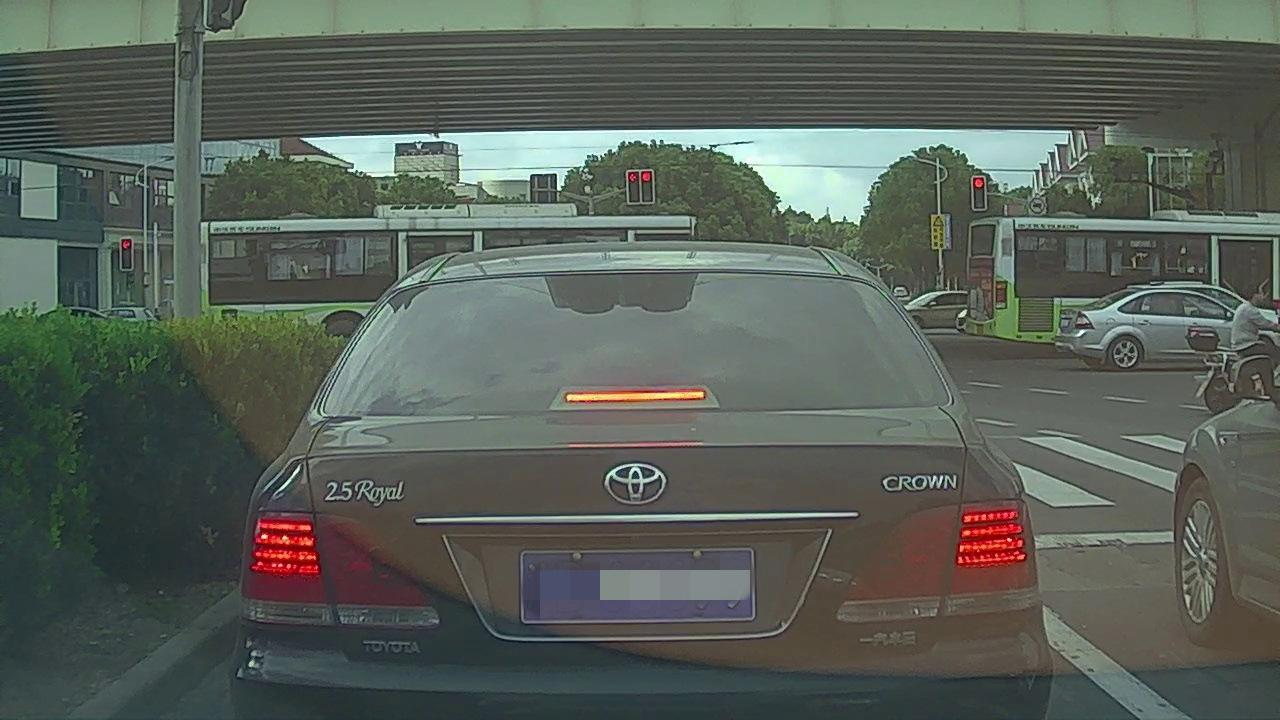traffic_light: (640, 168, 654, 203), (627, 172, 640, 204), (973, 177, 985, 209)
